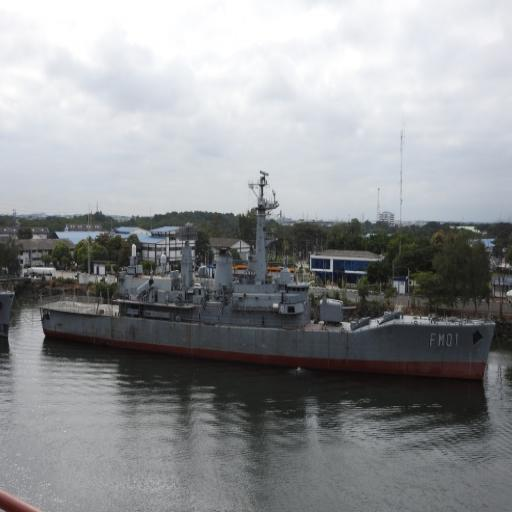Fragata: (40, 160, 500, 385)
